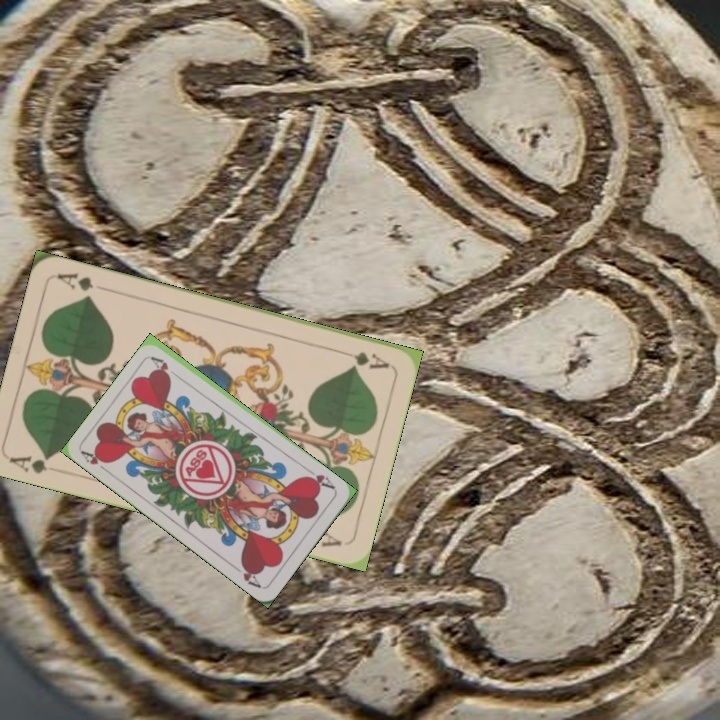GA: (335, 347, 392, 372), (6, 451, 56, 476)
HA: (301, 464, 338, 493), (78, 447, 113, 477)
